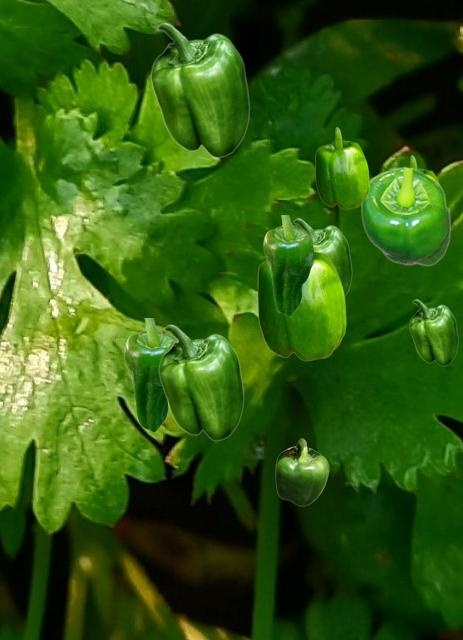bell_pepper: (150, 22, 249, 157), (158, 324, 243, 440), (257, 250, 345, 360), (360, 166, 450, 265), (124, 318, 176, 431), (263, 215, 313, 315), (293, 218, 351, 295), (315, 127, 368, 208), (275, 438, 328, 505), (409, 299, 457, 365), (410, 155, 439, 182)
